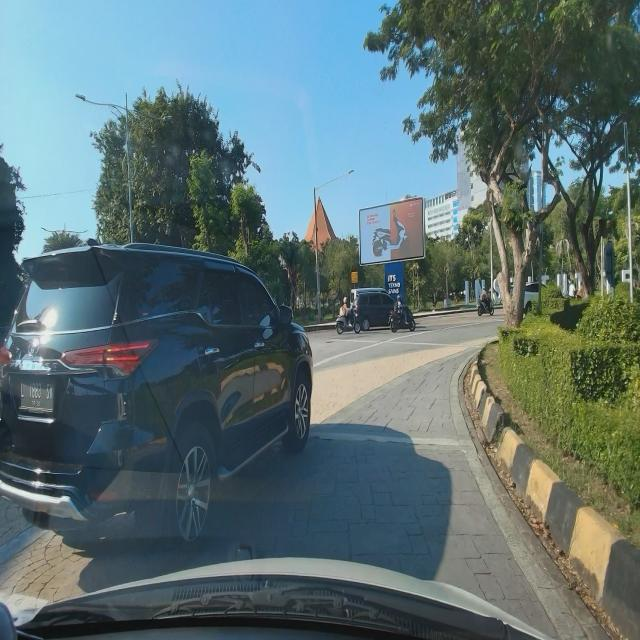car: (0, 232, 315, 560)
license-plate: (18, 379, 56, 411)
